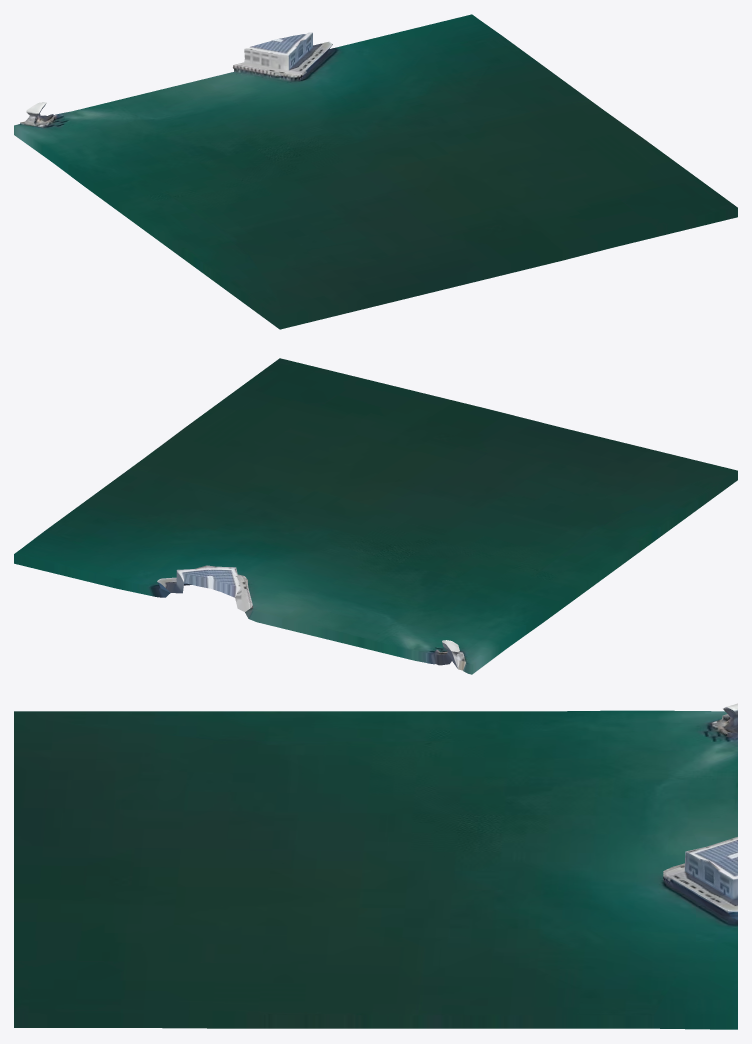
Rendered from z17-20974-50651-h0-yup-uvflip-v3-world.glb.
3 renders of one model, top to bottom at view 1: azimuth 30°, elevation 25°; view 2: azimuth 150°, elevation 25°; view 3: azimuth 270°, elevation 25°, orthographic. The views are drawn at different scales.
Bounding box in the file's own units: 241 × 17.6 × 243.
1 material, 1 textured.
